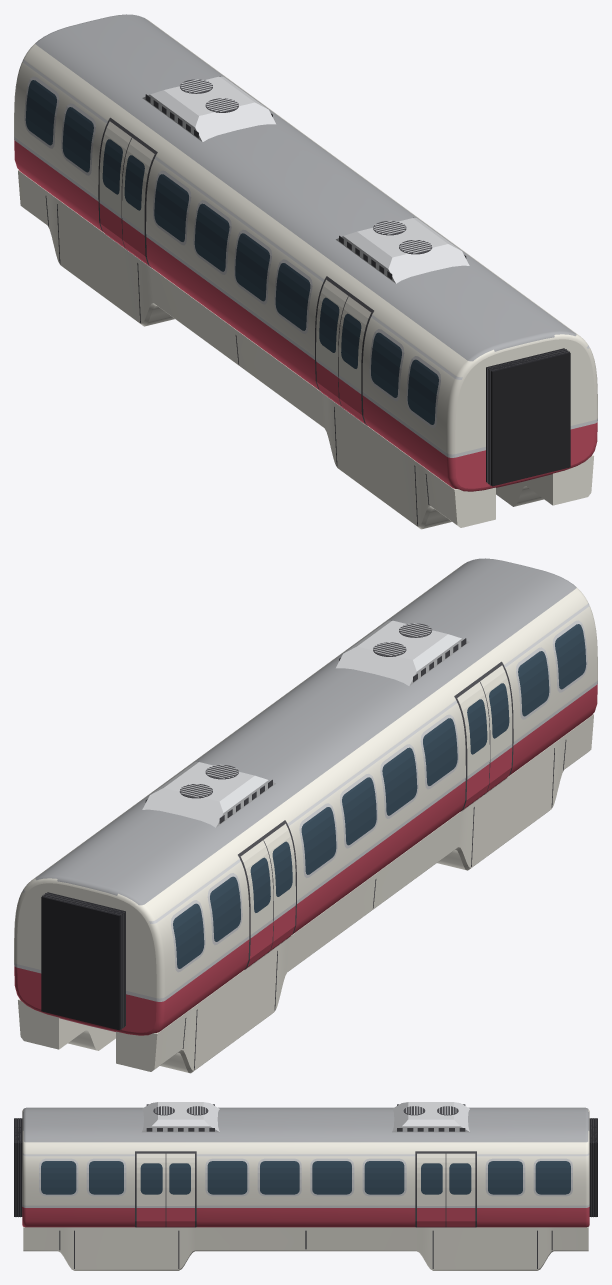
File: middle_2_close.fbx
3 renders of one model, top to bottom at view 1: azimuth 30°, elevation 25°; view 2: azimuth 150°, elevation 25°; view 3: azimuth 270°, elevation 25°, orthographic. The views are drawn at different scales.
Parts seen in each view (by area): view 1: 24_middle_2_close; view 2: 24_middle_2_close; view 3: 24_middle_2_close.
Boxes of the visible parts, x1,y1,x2,y2 form: 24_middle_2_close: (14,14,597,529); 24_middle_2_close: (14,558,597,1073); 24_middle_2_close: (14,1102,597,1270).
Bounding box in the file's own units: 2.72 × 3.71 × 14.
